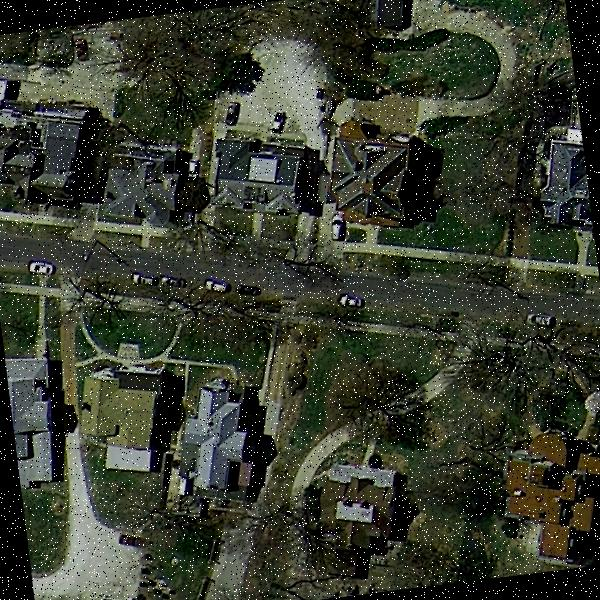Buildings: (505, 425, 600, 565), (79, 372, 170, 458), (5, 351, 54, 494), (524, 138, 592, 229), (334, 137, 413, 215), (184, 394, 249, 484), (314, 475, 400, 542), (216, 136, 310, 194), (4, 118, 74, 192), (98, 164, 172, 212)
